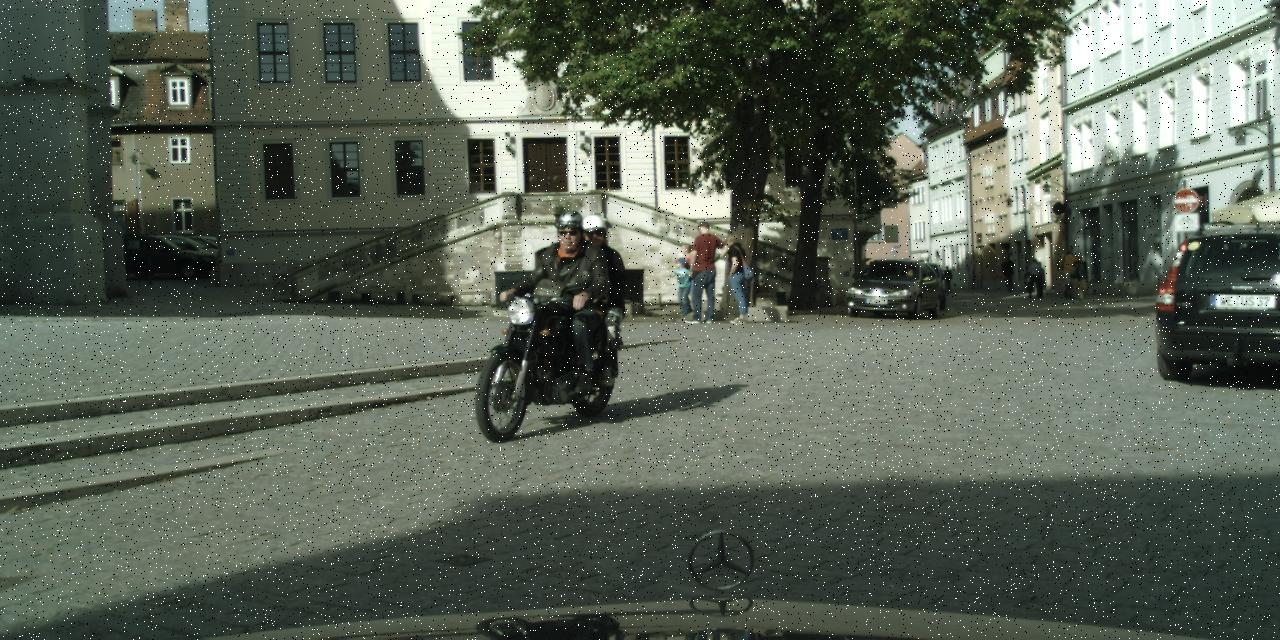ped: (526, 210, 598, 390), (683, 221, 723, 321), (718, 233, 754, 323), (678, 243, 704, 308), (671, 258, 694, 312), (1058, 246, 1079, 296), (1071, 254, 1089, 298), (1026, 258, 1042, 296), (1002, 257, 1015, 290), (942, 265, 952, 291)
